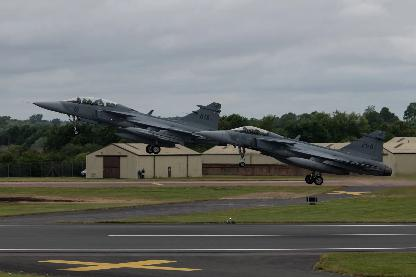JAS39: (190, 125, 392, 184), (21, 96, 227, 153)
